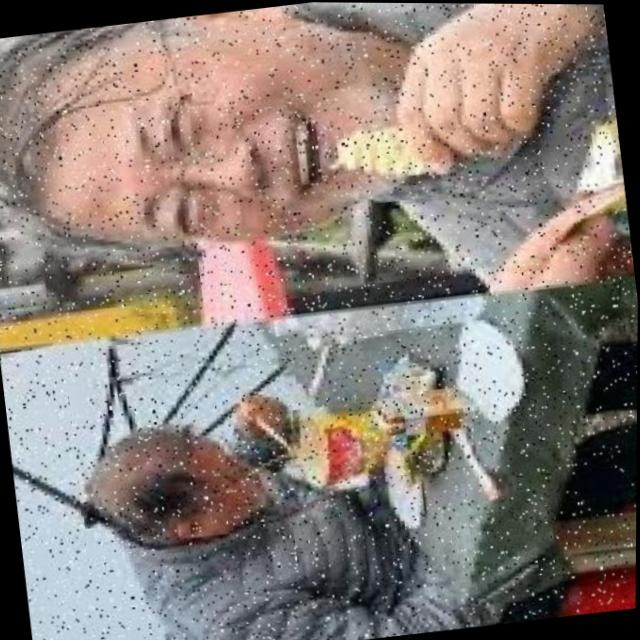Miscellaneous: (282, 394, 413, 502)
